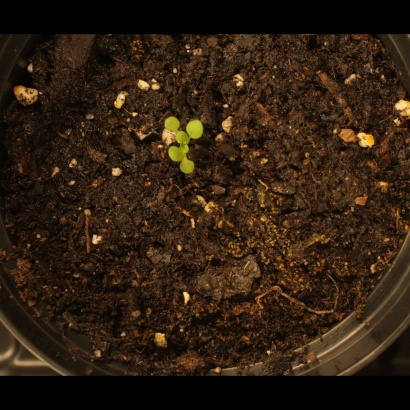leaf: (160, 108, 183, 131), (188, 115, 211, 138), (180, 160, 203, 183), (160, 148, 183, 171), (171, 127, 194, 150)
